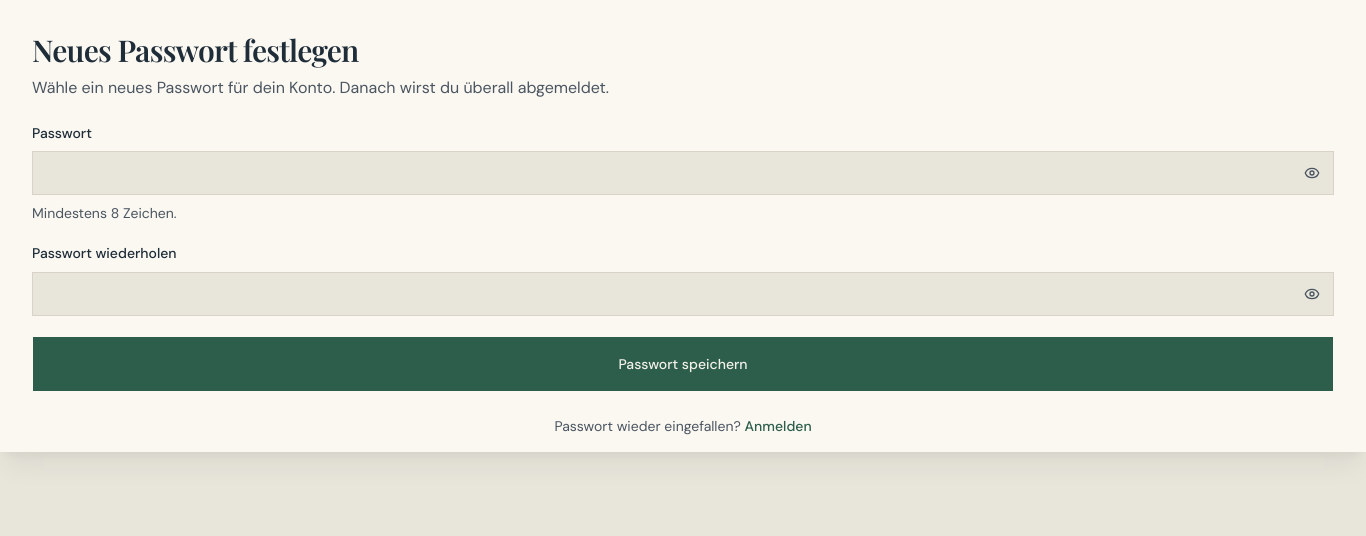
Test: ResetPasswordFlow › too short passwords are explained
The width and height of the screenshot is (1366, 536).
Type "short1234" into the password field labelled "Passwort" at (683, 173), box [32,151,1334,195]
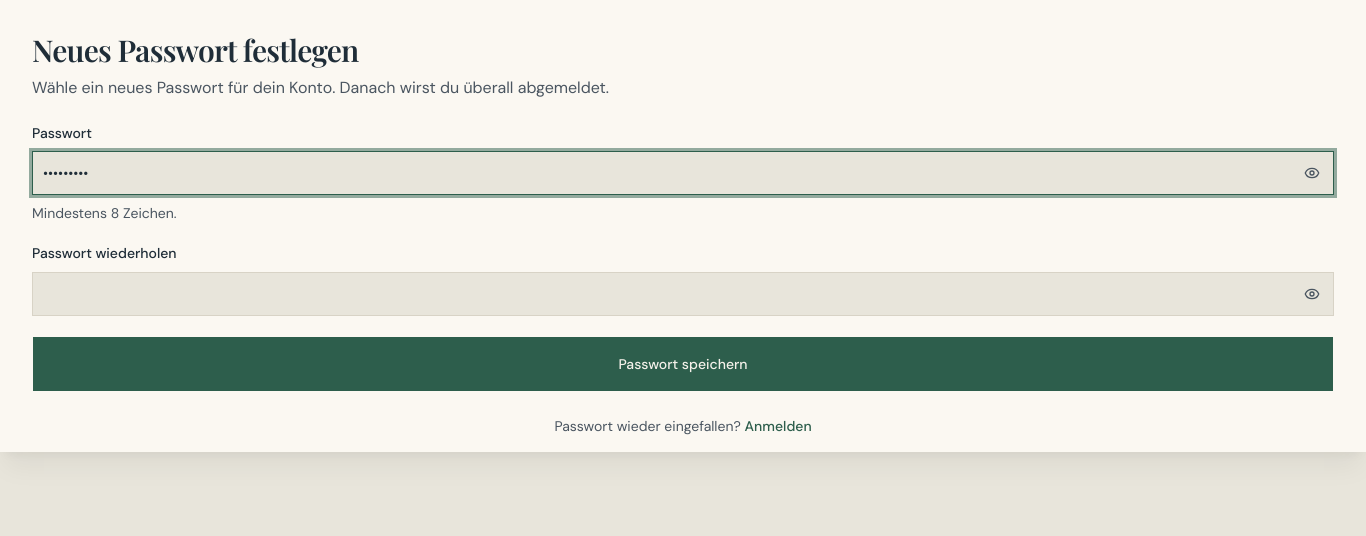
Type "short1234" into the password field labelled "Passwort wiederholen" at (683, 294), box [32,272,1334,316]
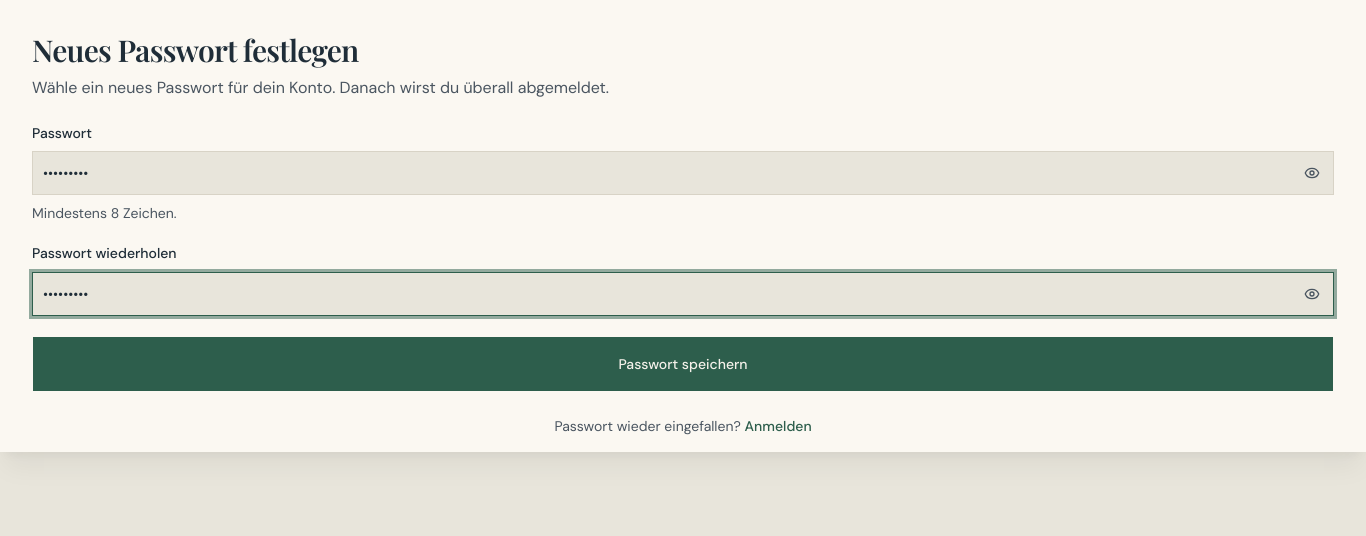
Click the button "Passwort speichern" at (683, 364), box [32,336,1334,392]
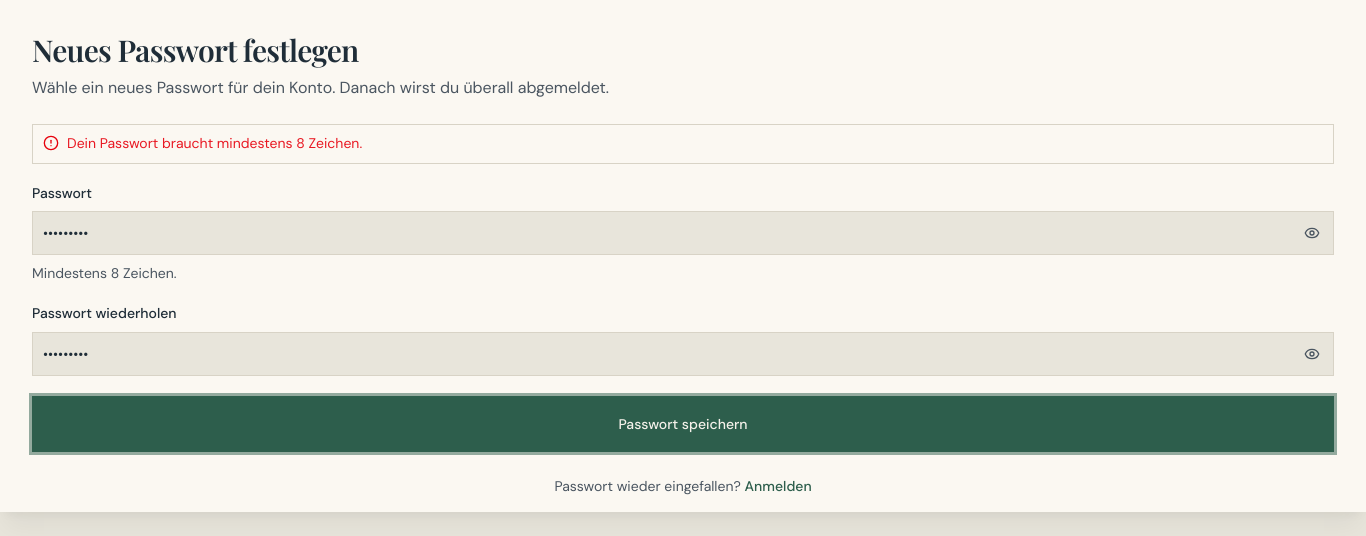
Expected: the message reads "Dein Passwort braucht mindestens 8 Zeichen.", [67,134,362,152]
